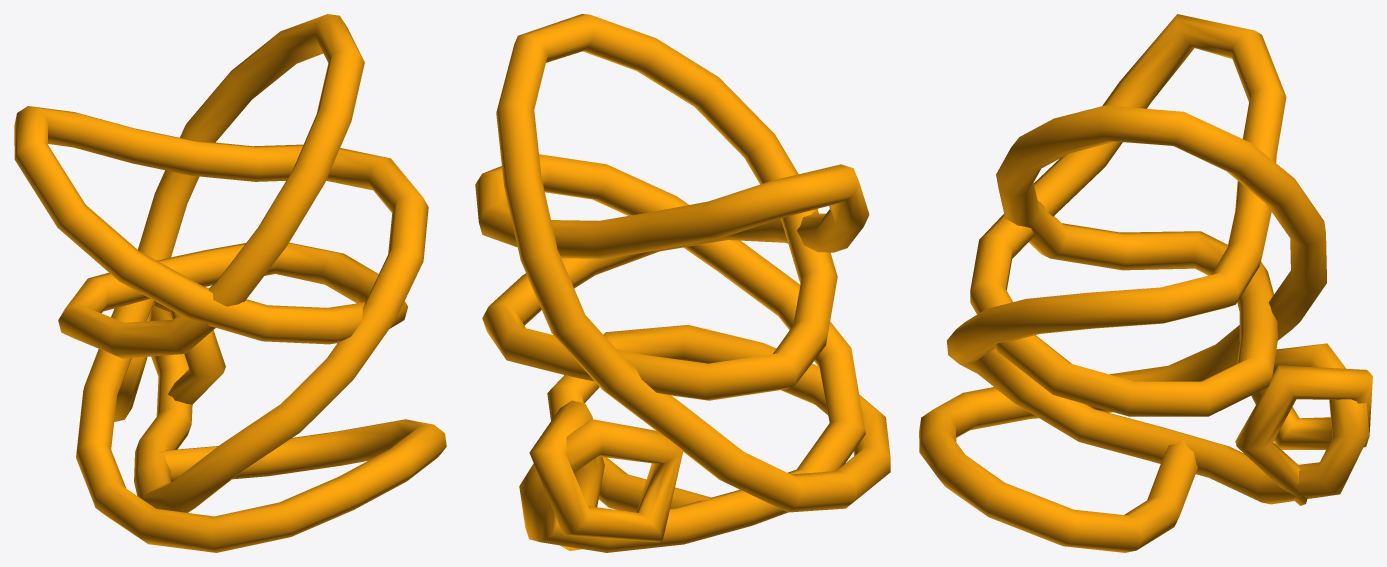
File: shengzi.fbx
The picture shows the model from 3 angles, left to right: view 1: azimuth 30°, elevation 25°; view 2: azimuth 150°, elevation 25°; view 3: azimuth 270°, elevation 25°; orthographic projection. The views are drawn at different scales.
Visible parts, largest first — view 1: sweep2; view 2: sweep2; view 3: sweep2.
Boxes of the visible parts, x1,y1,x2,y2 form: sweep2: (14,14,446,552); sweep2: (475,14,890,552); sweep2: (919,14,1372,552).
Size of the model in its own units: 50.64 by 57.05 by 51.44.
